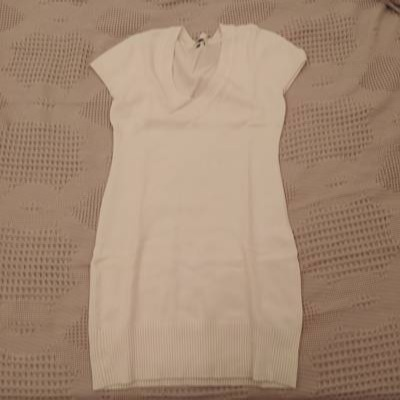Dress: (39, 12, 336, 389)
